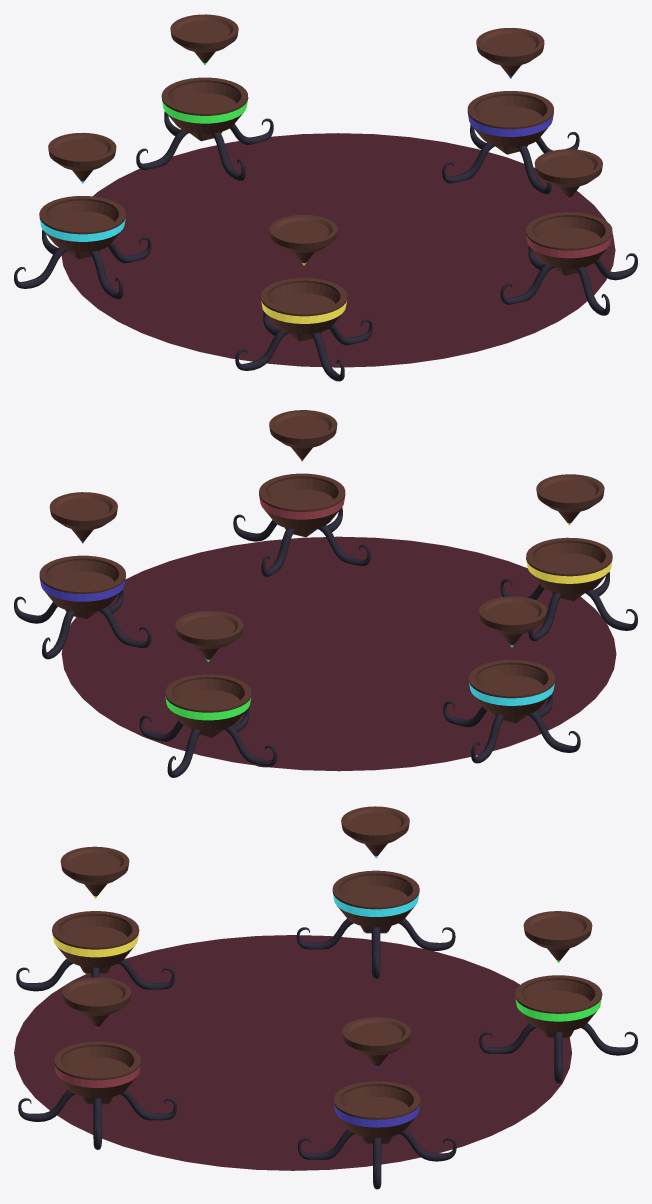
File: Bannkreis.fbx
3 views of the same model, one above another, from view 1: azimuth 30°, elevation 25°; view 2: azimuth 150°, elevation 25°; view 3: azimuth 270°, elevation 25° (orthographic).
Visible parts, largest first — view 1: Plane, Cylinder.021, Cylinder.002, Cylinder.027, Cylinder.008, Cylinder.015, Cylinder, Cylinder.019, Cylinder.013, Cylinder.025, Cylinder.010, BezierCurve.009 (+4 smaller); view 2: Plane, Cylinder.002, Cylinder.008, Cylinder.021, Cylinder.027, Cylinder.015, Cylinder.013, Cylinder.019, Cylinder.025, Cylinder.010, Cylinder, BezierCurve.004 (+4 smaller); view 3: Plane, Cylinder.021, Cylinder.008, Cylinder.015, Cylinder.002, Cylinder.027, Cylinder.010, Cylinder.013, Cylinder.025, Cylinder, Cylinder.019, BezierCurve.004 (+4 smaller).
Boxes of the visible parts, left/top/right/bottom form: Plane: left=61, top=133, right=615, bottom=367; Cylinder.021: left=526, top=212, right=612, bottom=268; Cylinder.002: left=161, top=77, right=248, bottom=133; Cylinder.027: left=261, top=278, right=347, bottom=334; Cylinder.008: left=467, top=91, right=553, bottom=147; Cylinder.015: left=39, top=196, right=125, bottom=252; Cylinder: left=170, top=14, right=238, bottom=52; Cylinder.019: left=534, top=149, right=602, bottom=187; Cylinder.013: left=48, top=132, right=116, bottom=170; Cylinder.025: left=269, top=215, right=337, bottom=252; Cylinder.010: left=476, top=28, right=544, bottom=65; BezierCurve.009: left=235, top=312, right=372, bottom=381; Plane: left=61, top=536, right=616, bottom=771; Cylinder.002: left=165, top=674, right=251, bottom=730; Cylinder.008: left=39, top=555, right=125, bottom=611; Cylinder.021: left=259, top=473, right=345, bottom=529; Cylinder.027: left=526, top=537, right=612, bottom=594; Cylinder.015: left=468, top=660, right=555, bottom=716; Cylinder.013: left=479, top=596, right=547, bottom=634; Cylinder.019: left=269, top=410, right=337, bottom=448; Cylinder.025: left=536, top=474, right=604, bottom=512; Cylinder.010: left=49, top=492, right=117, bottom=530; Cylinder: left=175, top=610, right=243, bottom=648; BezierCurve.004: left=443, top=693, right=580, bottom=763; Plane: left=14, top=935, right=571, bottom=1170; Cylinder.021: left=54, top=1041, right=141, bottom=1098; Cylinder.008: left=333, top=1081, right=420, bottom=1137; Cylinder.015: left=332, top=870, right=419, bottom=927; Cylinder.002: left=515, top=975, right=602, bottom=1031; Cylinder.027: left=52, top=911, right=139, bottom=967; Cylinder.010: left=342, top=1017, right=410, bottom=1055; Cylinder.013: left=341, top=806, right=409, bottom=844; Cylinder.025: left=60, top=846, right=129, bottom=885; Cylinder: left=523, top=911, right=592, bottom=949; Cylinder.019: left=62, top=977, right=131, bottom=1015; BezierCurve.004: left=296, top=918, right=455, bottom=978.
Bounding box in the file's own units: 637 × 138 × 605.
